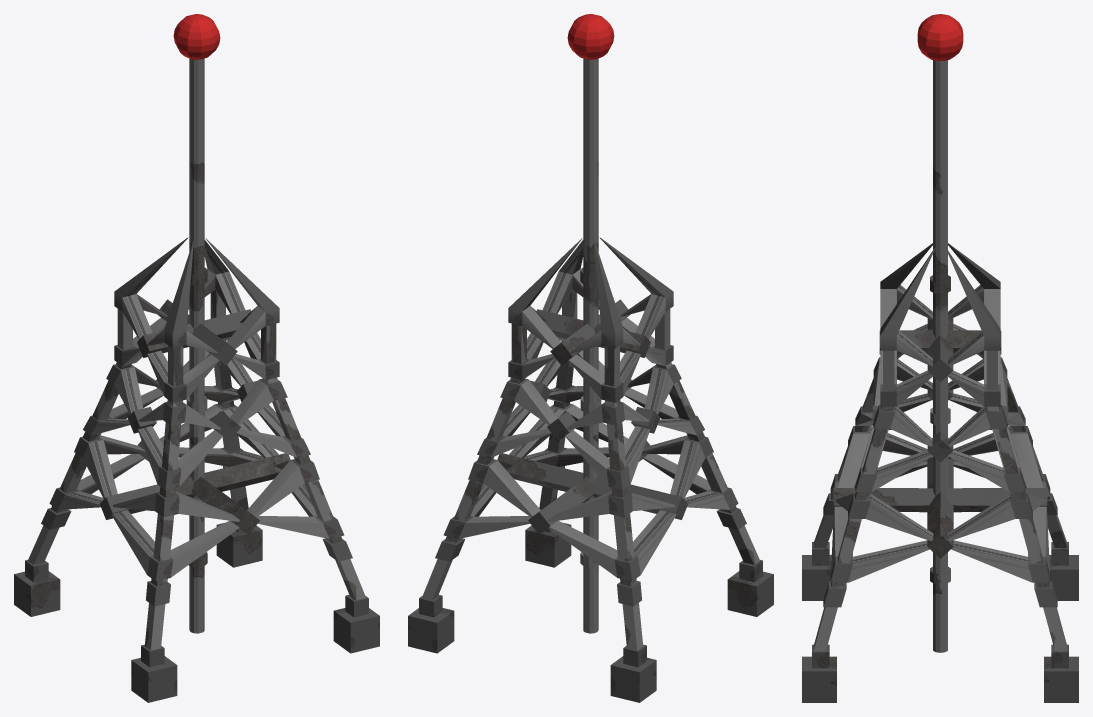
The model's file is radiotower.fbx.
3 renders of one model, left to right at view 1: azimuth 30°, elevation 25°; view 2: azimuth 150°, elevation 25°; view 3: azimuth 270°, elevation 25°, orthographic. The views are drawn at different scales.
Visible parts, largest first — view 1: tower; view 2: tower; view 3: tower.
Boxes of the visible parts, box(x1,y1,x2,y2) form: tower: box(14, 14, 379, 702); tower: box(408, 14, 773, 702); tower: box(802, 14, 1078, 702).
Bounding box in the file's own units: 7.92 × 20.06 × 7.94.
Materials: 2 (2 with a texture image).
